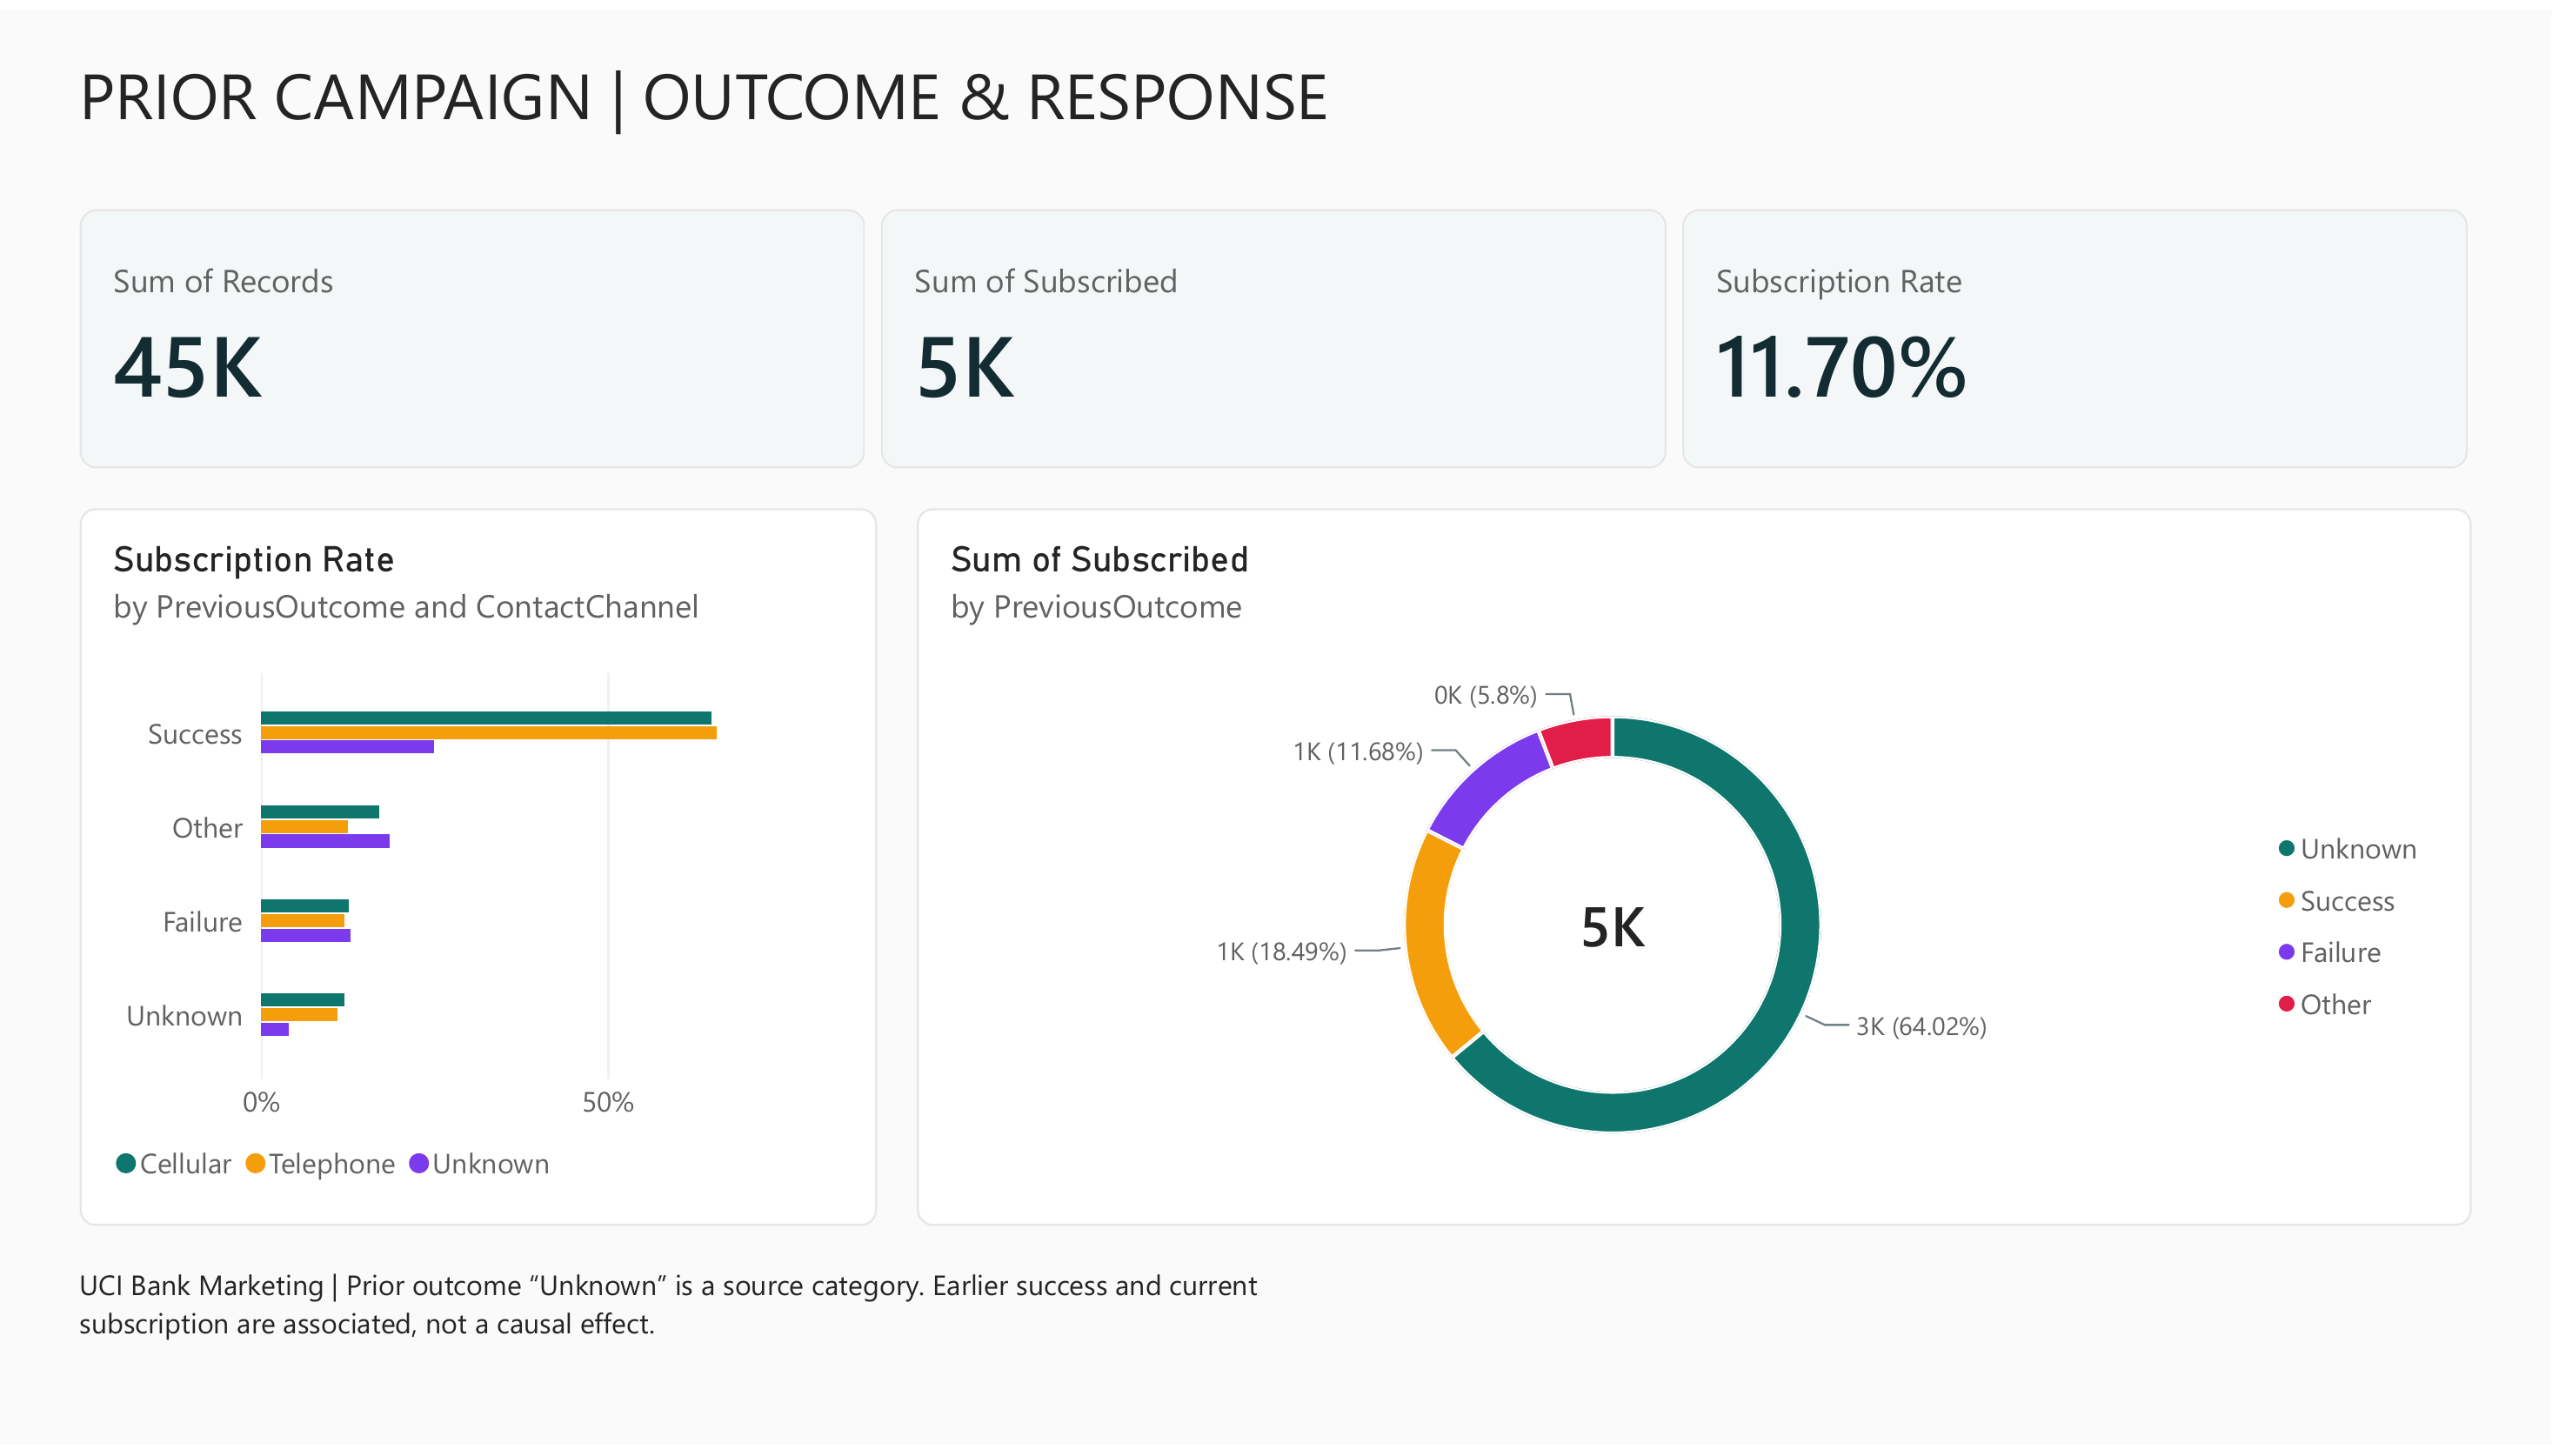

The page's visual inventory and layout, read from the dashboard file:
{"tool":"powerbi","page":{"name":"03 Prior Outcome","canvas":[1280,720],"ordinal":2},"visuals":[{"type":"cardVisual","fields":{"Data":["Sum(campaigns.Records)","Sum(campaigns.Subscribed)","campaigns.Subscription Rate"]},"box":[40,100,1200,130],"z":0},{"type":"textbox","box":[40,20,1200,60],"z":1000},{"type":"clusteredBarChart","fields":{"Category":["campaigns.PreviousOutcome"],"Series":["campaigns.ContactChannel"],"Y":["campaigns.Subscription Rate"]},"box":[40,250,400,360],"z":2000},{"type":"donutChart","fields":{"Category":["campaigns.PreviousOutcome"],"Y":["Sum(campaigns.Subscribed)"]},"box":[460,250,780,360],"z":3000},{"type":"textbox","box":[40,630,670,60],"z":4000}]}

Visuals, with their boxes in screenshot pixels (x1, y1, x2, y2), scaled from the page's 1280x720 canvas onto the 2552x1456 screenshot:
cardVisual - Sum(campaigns.Records) x Sum(campaigns.Subscribed): {"left": 80, "top": 203, "right": 2472, "bottom": 465}
textbox: {"left": 80, "top": 40, "right": 2472, "bottom": 162}
clusteredBarChart - campaigns.PreviousOutcome x campaigns.ContactChannel: {"left": 80, "top": 505, "right": 878, "bottom": 1233}
donutChart - campaigns.PreviousOutcome x Sum(campaigns.Subscribed): {"left": 917, "top": 505, "right": 2472, "bottom": 1233}
textbox: {"left": 80, "top": 1274, "right": 1415, "bottom": 1395}
